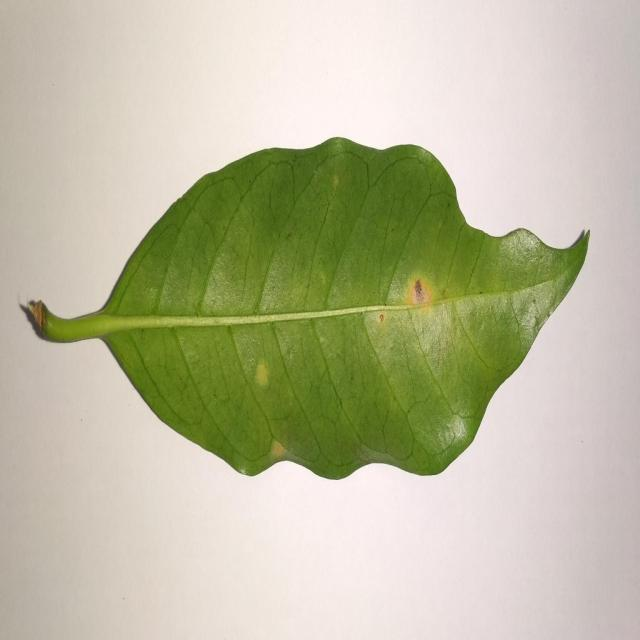Enfermedad-Roya: (21, 138, 590, 484)
